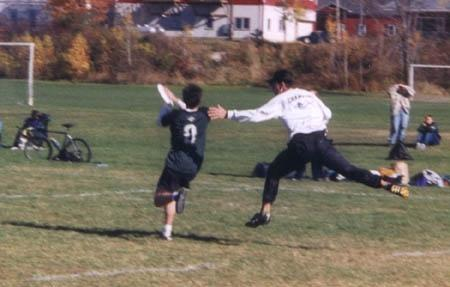bicycle: (23, 123, 91, 165)
